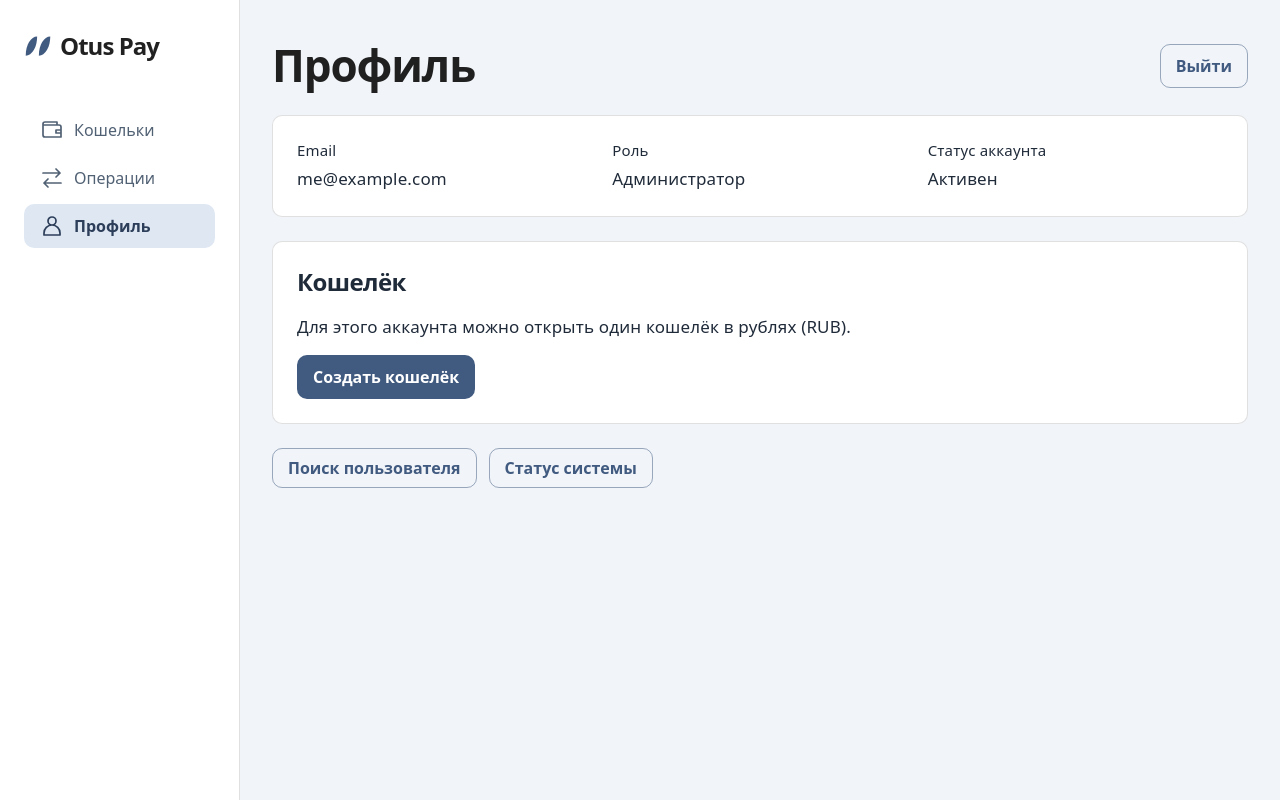
Scenario: admin system status › opens system status from the profile of an active administrator
Click the link "Статус системы": (571, 468) x1=489 y1=448 x2=653 y2=488
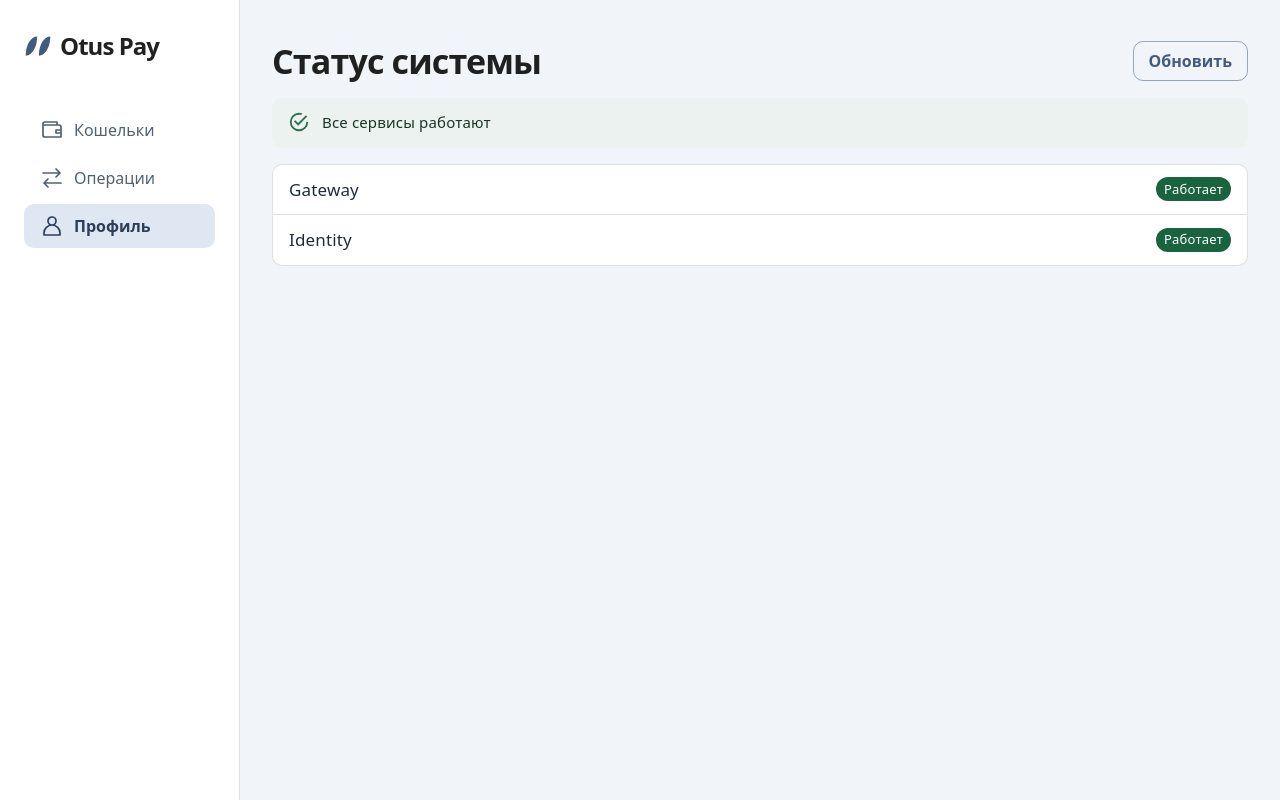
Expected: the text "Все сервисы работают" is shown, x1=322 y1=112 x2=491 y2=132
